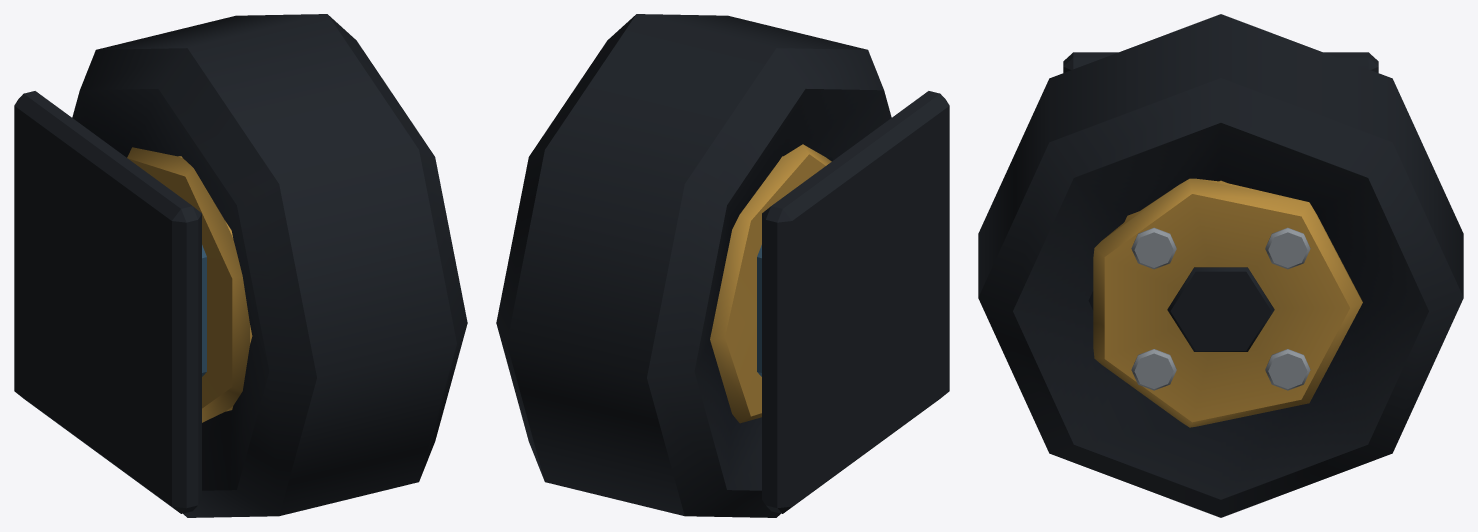
File: R4M_WheelM_Side_Offroad_LOD1.glb
3 renders of one model, left to right at view 1: azimuth 30°, elevation 25°; view 2: azimuth 150°, elevation 25°; view 3: azimuth 270°, elevation 25°, orthographic. The views are drawn at different scales.
Parts seen in each view (by area): view 1: R4M_WheelM_Side_Offroad_LOD1; view 2: R4M_WheelM_Side_Offroad_LOD1; view 3: R4M_WheelM_Side_Offroad_LOD1.
Boxes of the visible parts, x1,y1,x2,y2 form: R4M_WheelM_Side_Offroad_LOD1: [14, 14, 467, 517]; R4M_WheelM_Side_Offroad_LOD1: [496, 14, 949, 517]; R4M_WheelM_Side_Offroad_LOD1: [978, 14, 1463, 517].
Bounding box in the file's own units: 0.452 × 0.77 × 0.77.
